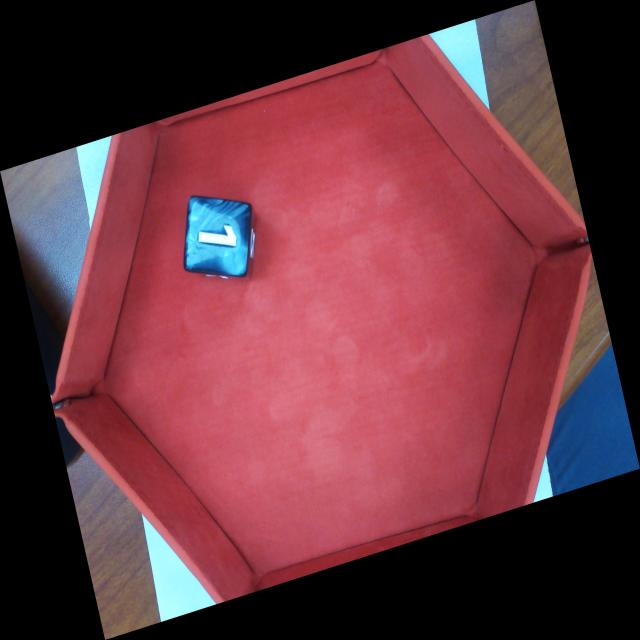dice: (187, 197, 250, 273)
